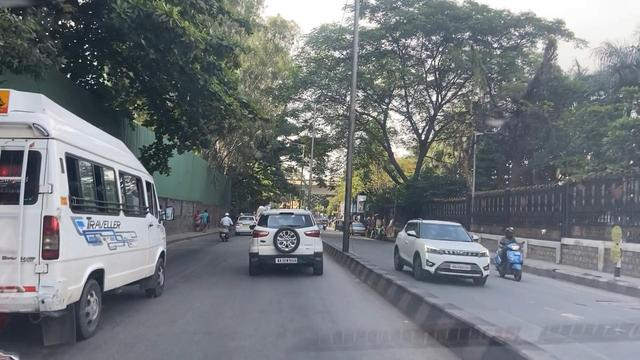HMV: (3, 93, 164, 353)
LMV: (249, 208, 321, 273)
